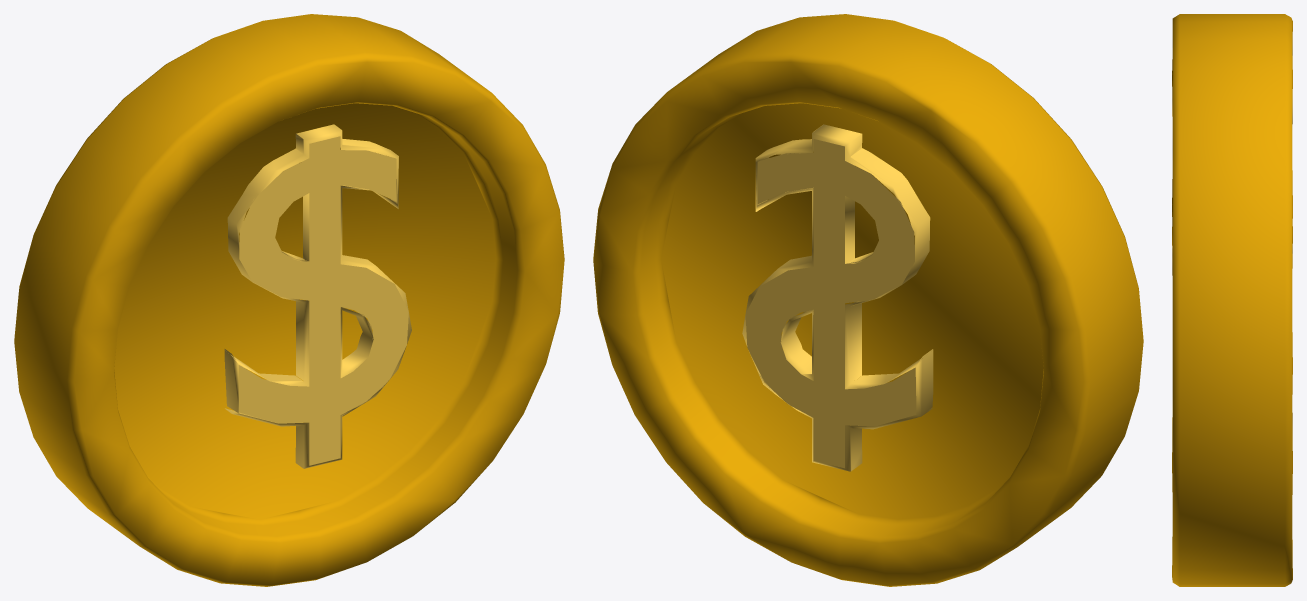
The model's file is coin-2.glb.
3 renders of one model, left to right at view 1: azimuth 30°, elevation 25°; view 2: azimuth 150°, elevation 25°; view 3: azimuth 270°, elevation 25°, orthographic.
Parts seen in each view (by area): view 1: coin; view 2: coin; view 3: coin.
Part boxes in pixels (x1=…): coin: x1=14, y1=14, x2=564, y2=586; coin: x1=593, y1=14, x2=1143, y2=586; coin: x1=1172, y1=14, x2=1292, y2=586.
Size of the model in its own units: 0.9307 by 0.9307 by 0.1962.
